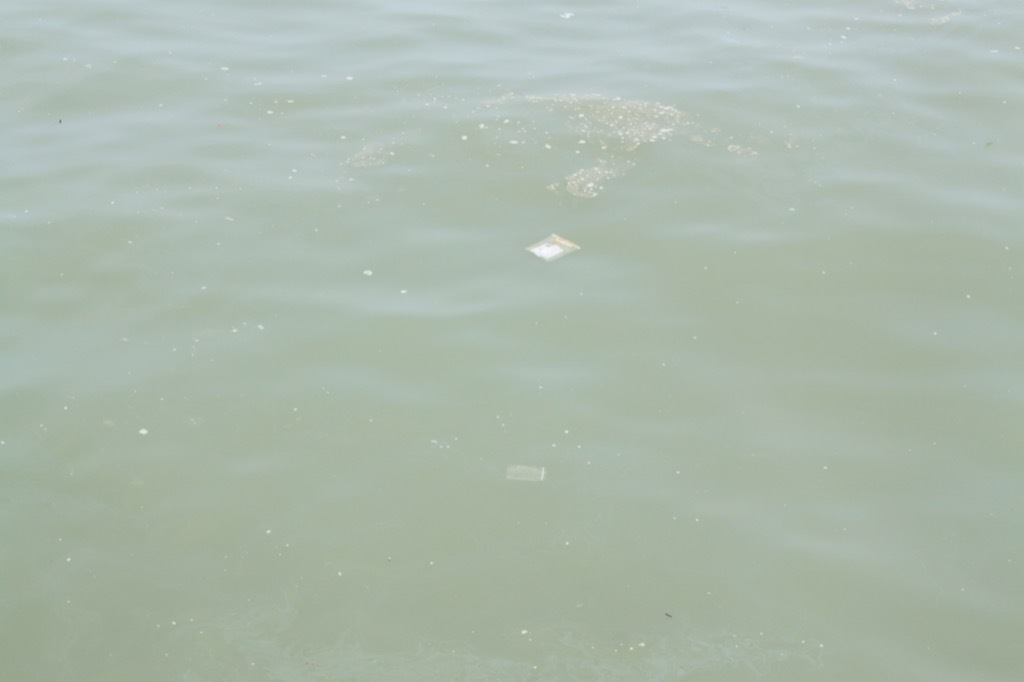organic: (977, 132, 1002, 161), (41, 112, 67, 135), (658, 604, 677, 626)
plastic: (518, 226, 585, 273), (495, 453, 556, 493)
